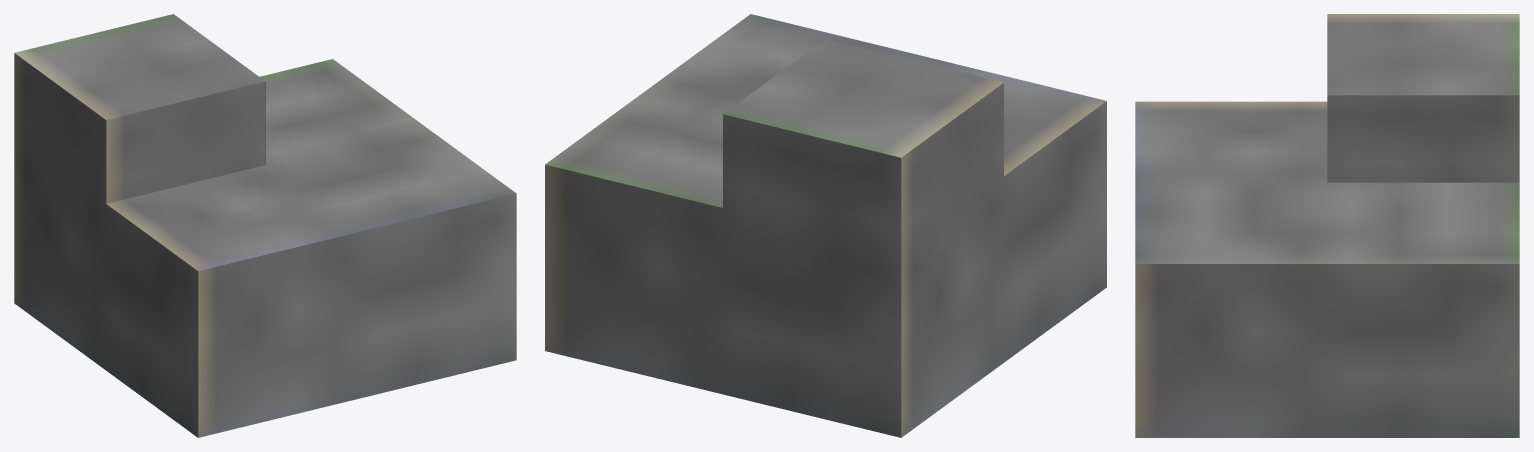
Rendered from Stone_Destroy_Step3.fbx.
3 renders of one model, left to right at view 1: azimuth 30°, elevation 25°; view 2: azimuth 150°, elevation 25°; view 3: azimuth 270°, elevation 25°, orthographic. The views are drawn at different scales.
Parts seen in each view (by area): view 1: Stone_Destroy_Step3; view 2: Stone_Destroy_Step3; view 3: Stone_Destroy_Step3.
Part boxes in pixels (x1,y1,x2,y2): Stone_Destroy_Step3: (14, 14, 516, 437); Stone_Destroy_Step3: (545, 14, 1106, 437); Stone_Destroy_Step3: (1135, 14, 1519, 437).
Size of the model in its own units: 25 by 18.79 by 25.
1 material, 1 textured.
